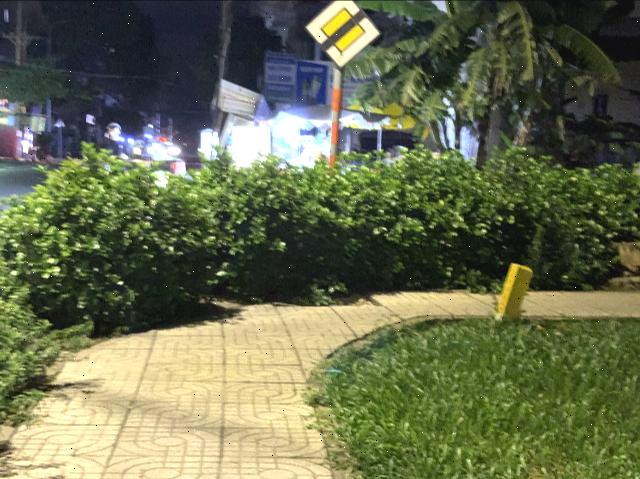het-duong-uu-tien: (302, 0, 382, 72)
